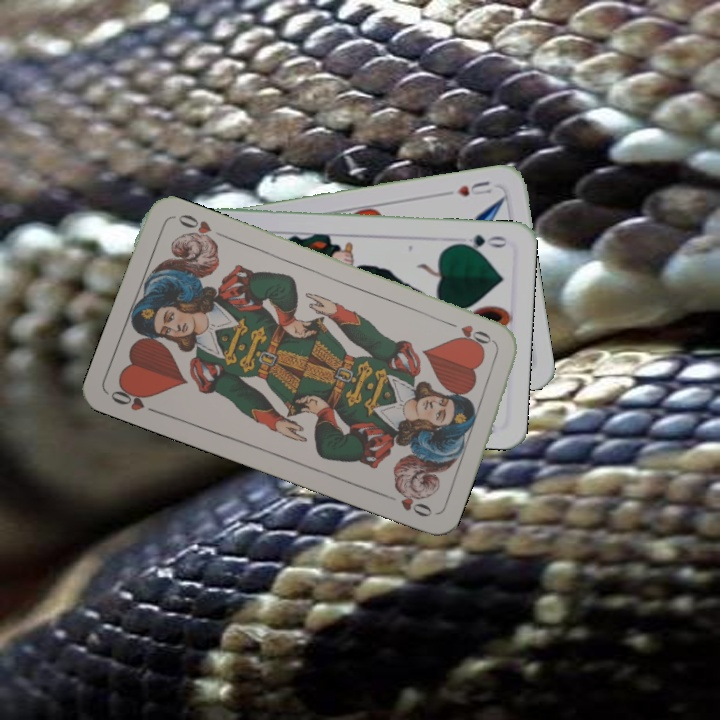GO: (451, 230, 510, 253)
HO: (106, 381, 162, 417), (442, 317, 498, 348)
HU: (453, 176, 494, 199)
